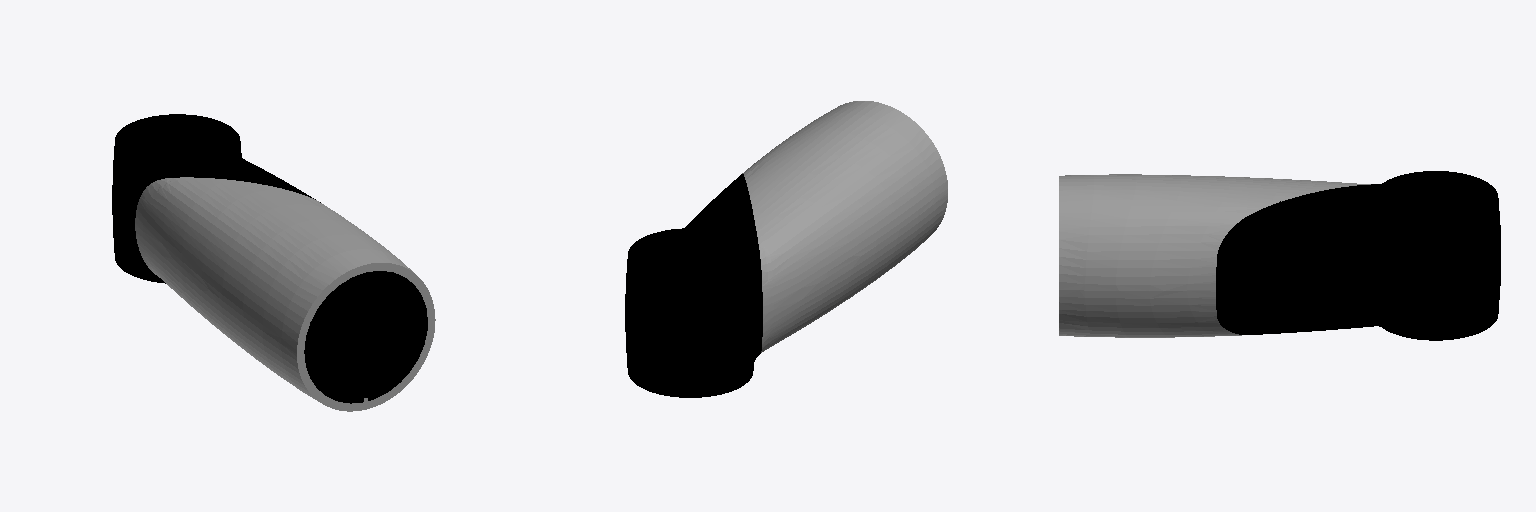
3 renders of one model, left to right at view 1: azimuth 30°, elevation 25°; view 2: azimuth 150°, elevation 25°; view 3: azimuth 270°, elevation 25°, orthographic.
Visible parts, largest first — view 1: left_arm_link3; view 2: left_arm_link3; view 3: left_arm_link3.
Part boxes in pixels (x1,y1,x2,y2): left_arm_link3: (112, 114, 435, 411); left_arm_link3: (625, 101, 947, 397); left_arm_link3: (1059, 171, 1500, 340).
Size of the model in its own units: 0.0953 by 0.0925 by 0.2539.